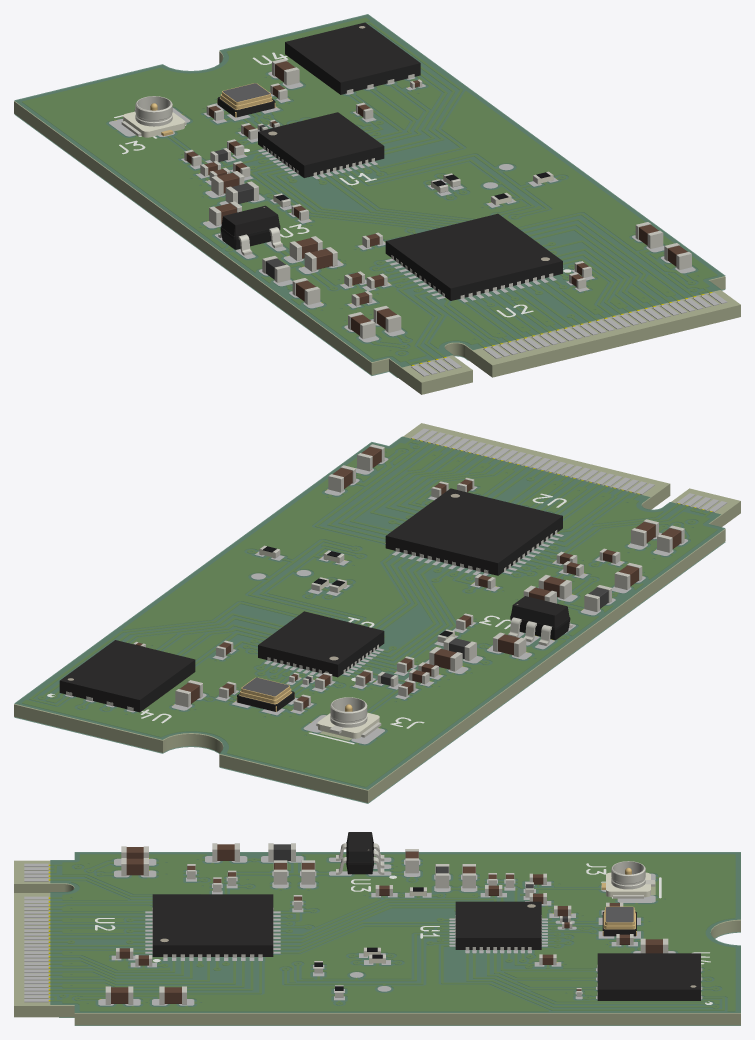
File: future-m2-goldfingers.glb
The picture shows the model from 3 angles, top to bottom: view 1: azimuth 30°, elevation 25°; view 2: azimuth 150°, elevation 25°; view 3: azimuth 270°, elevation 25°; orthographic projection. The views are drawn at different scales.
Parts seen in each view (by area): view 1: =>[0:1:1:32], =>[0:1:1:28], =>[0:1:1:34], =>[0:1:1:23], =>[0:1:1:29], =>[0:1:1:27], =>[0:1:1:3], =>[0:1:1:19], =>[0:1:1:25], =>[0:1:1:9], =>[0:1:1:31], =>[0:1:1:7]; view 2: =>[0:1:1:32], =>[0:1:1:28], =>[0:1:1:34], =>[0:1:1:23], =>[0:1:1:29], =>[0:1:1:27], =>[0:1:1:3], =>[0:1:1:19], =>[0:1:1:25], =>[0:1:1:9], =>[0:1:1:7] (×2), =>[0:1:1:33] (+1 smaller); view 3: =>[0:1:1:32], =>[0:1:1:28], =>[0:1:1:34], =>[0:1:1:29], =>[0:1:1:23], =>[0:1:1:27], =>[0:1:1:3], =>[0:1:1:7] (×10), =>[0:1:1:19], =>[0:1:1:25], =>[0:1:1:9], =>[0:1:1:15] (×2) (+2 smaller).
Part boxes in pixels (left/top/right/bottom): =>[0:1:1:32]: left=14, top=14, right=725, bottom=367; =>[0:1:1:28]: left=23, top=18, right=716, bottom=365; =>[0:1:1:34]: left=14, top=15, right=740, bottom=394; =>[0:1:1:23]: left=385, top=213, right=562, bottom=300; =>[0:1:1:29]: left=109, top=72, right=727, bottom=376; =>[0:1:1:27]: left=285, top=22, right=420, bottom=94; =>[0:1:1:3]: left=258, top=112, right=384, bottom=177; =>[0:1:1:19]: left=218, top=205, right=282, bottom=255; =>[0:1:1:25]: left=121, top=96, right=186, bottom=137; =>[0:1:1:9]: left=217, top=83, right=275, bottom=117; =>[0:1:1:31]: left=114, top=52, right=571, bottom=317; =>[0:1:1:7]: left=304, top=247, right=337, bottom=271; =>[0:1:1:32]: left=14, top=436, right=725, bottom=789; =>[0:1:1:28]: left=23, top=438, right=716, bottom=786; =>[0:1:1:34]: left=14, top=423, right=740, bottom=802; =>[0:1:1:23]: left=385, top=488, right=562, bottom=575; =>[0:1:1:29]: left=65, top=428, right=727, bottom=744; =>[0:1:1:27]: left=59, top=640, right=195, bottom=712; =>[0:1:1:3]: left=258, top=611, right=384, bottom=677; =>[0:1:1:19]: left=508, top=596, right=572, bottom=645; =>[0:1:1:25]: left=316, top=697, right=381, bottom=738; =>[0:1:1:9]: left=236, top=677, right=294, bottom=711; =>[0:1:1:7] (×2): left=429, top=632, right=526, bottom=671; =>[0:1:1:33]: left=14, top=542, right=725, bottom=803; =>[0:1:1:32]: left=50, top=852, right=740, bottom=1012; =>[0:1:1:28]: left=48, top=855, right=734, bottom=1010; =>[0:1:1:34]: left=14, top=853, right=740, bottom=1025; =>[0:1:1:29]: left=24, top=856, right=702, bottom=1005; =>[0:1:1:23]: left=152, top=894, right=273, bottom=957; =>[0:1:1:27]: left=597, top=953, right=701, bottom=1000; =>[0:1:1:3]: left=455, top=901, right=541, bottom=950; =>[0:1:1:7] (×10): left=105, top=843, right=668, bottom=1004; =>[0:1:1:19]: left=336, top=832, right=384, bottom=874; =>[0:1:1:25]: left=601, top=861, right=655, bottom=898; =>[0:1:1:9]: left=602, top=906, right=636, bottom=936; =>[0:1:1:15] (×2): left=268, top=843, right=449, bottom=888.
Bounding box in the file's own units: 0.022 × 0.00241 × 0.042.
